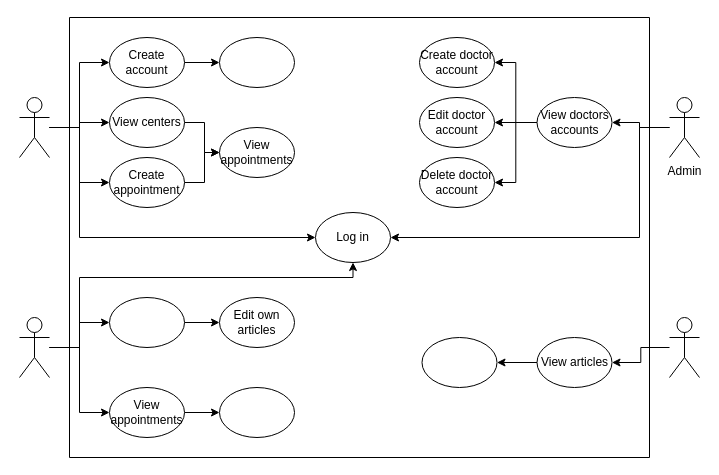
Some shapes in this 719 by 475 pixel diagram are drawn without their labels. The box of each missing label's shape, as (x1, y1, x2, y2) in pixels:
Confirm appointments: (218, 386, 294, 438)
Doctor: (18, 316, 50, 378)
Donor: (18, 96, 50, 158)
Edit account: (218, 36, 294, 88)
Guest: (668, 316, 700, 378)
Like articles: (421, 336, 497, 388)
Publish article: (108, 296, 184, 348)
